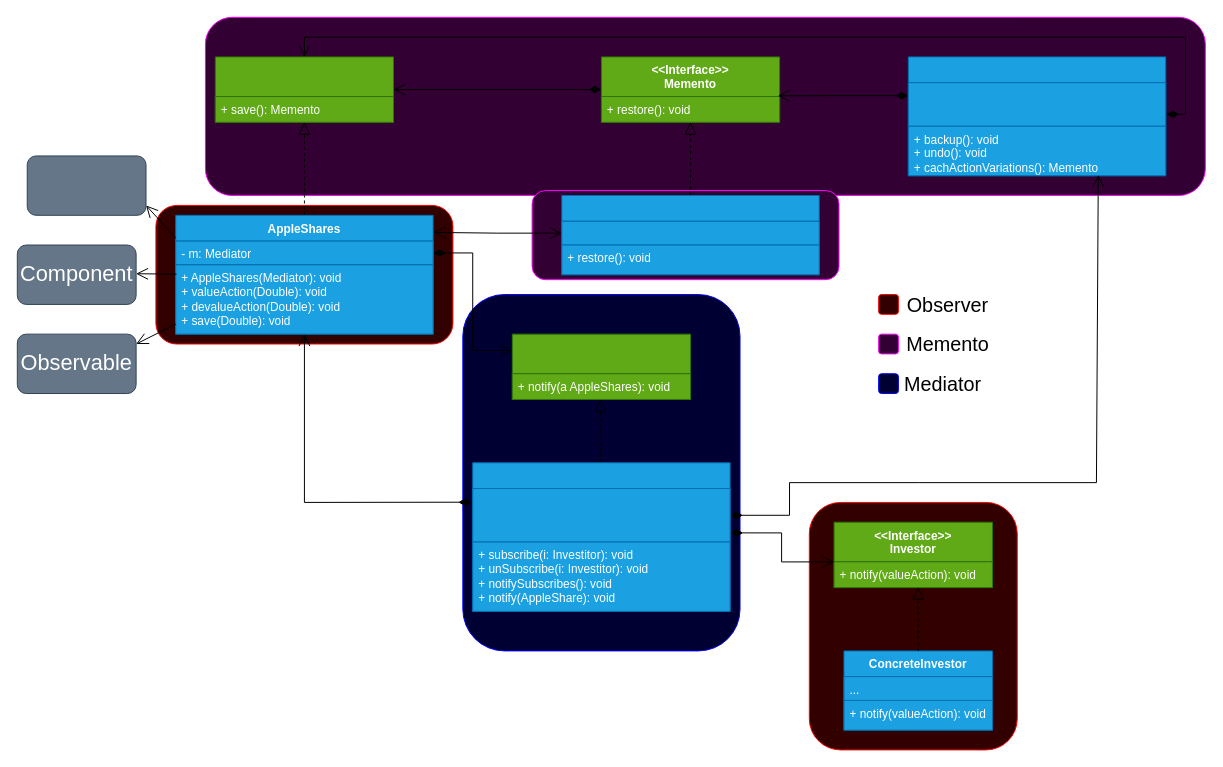
Some shapes in this 1223 by 767 pixel diagram are drawn without their labels. Each missing label, with the box of its shape:
+ appleShare: AppleShares + caretaker: Caretaker + investitors: Investitor[]: (472, 488, 730, 542)
- m: Memento [] - o: Originator: (907, 82, 1166, 126)
- o: Originator: (561, 220, 819, 245)
<<Interface>> Mediator: (511, 333, 691, 399)
<<Interface>> Originator: (214, 56, 394, 122)
Caretaker: (907, 56, 1166, 176)
ConcreteMediator: (472, 462, 730, 611)
ConcreteMemento: (561, 195, 819, 275)
Originator: (26, 155, 146, 215)
